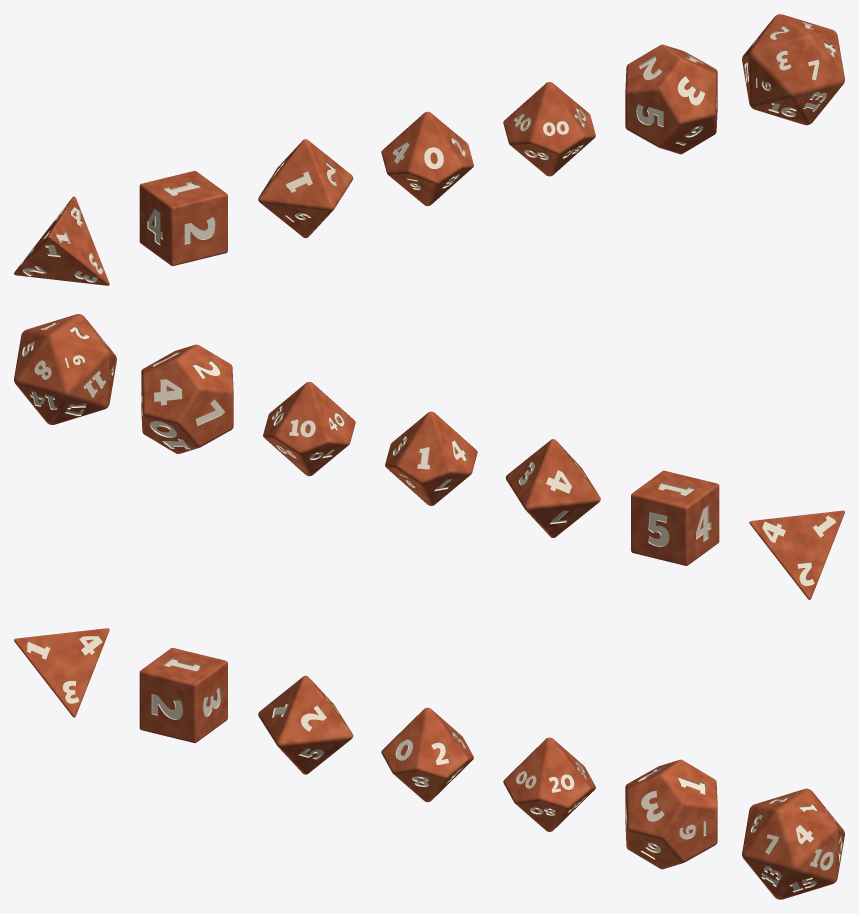
Rendered from terracotta.glb.
3 renders of one model, top to bottom at view 1: azimuth 30°, elevation 25°; view 2: azimuth 150°, elevation 25°; view 3: azimuth 330°, elevation 25°, orthographic.
Visible parts, largest first — view 1: d20, d12, d6, d100, d10, d8, d4; view 2: d20, d12, d6, d100, d10, d8, d4; view 3: d20, d12, d6, d8, d10, d100, d4.
Part boxes in pixels (x1,y1,x2,y2): d20: (742, 14, 844, 125); d12: (625, 44, 717, 154); d6: (139, 171, 227, 266); d100: (503, 82, 595, 176); d10: (381, 111, 473, 206); d8: (258, 139, 353, 238); d4: (14, 196, 109, 285); d20: (14, 314, 116, 424); d12: (141, 344, 233, 453); d6: (631, 470, 719, 565); d100: (263, 382, 355, 476); d10: (385, 411, 477, 505); d8: (505, 439, 600, 537); d4: (749, 510, 844, 599); d20: (742, 788, 844, 899); d12: (625, 759, 717, 869); d6: (139, 647, 227, 742); d8: (258, 675, 353, 774); d10: (381, 707, 473, 802); d100: (503, 737, 595, 831); d4: (14, 628, 109, 717).
Bounding box in the file's own units: 21.14 × 2.47 × 2.47.
14 materials, 7 textured.
